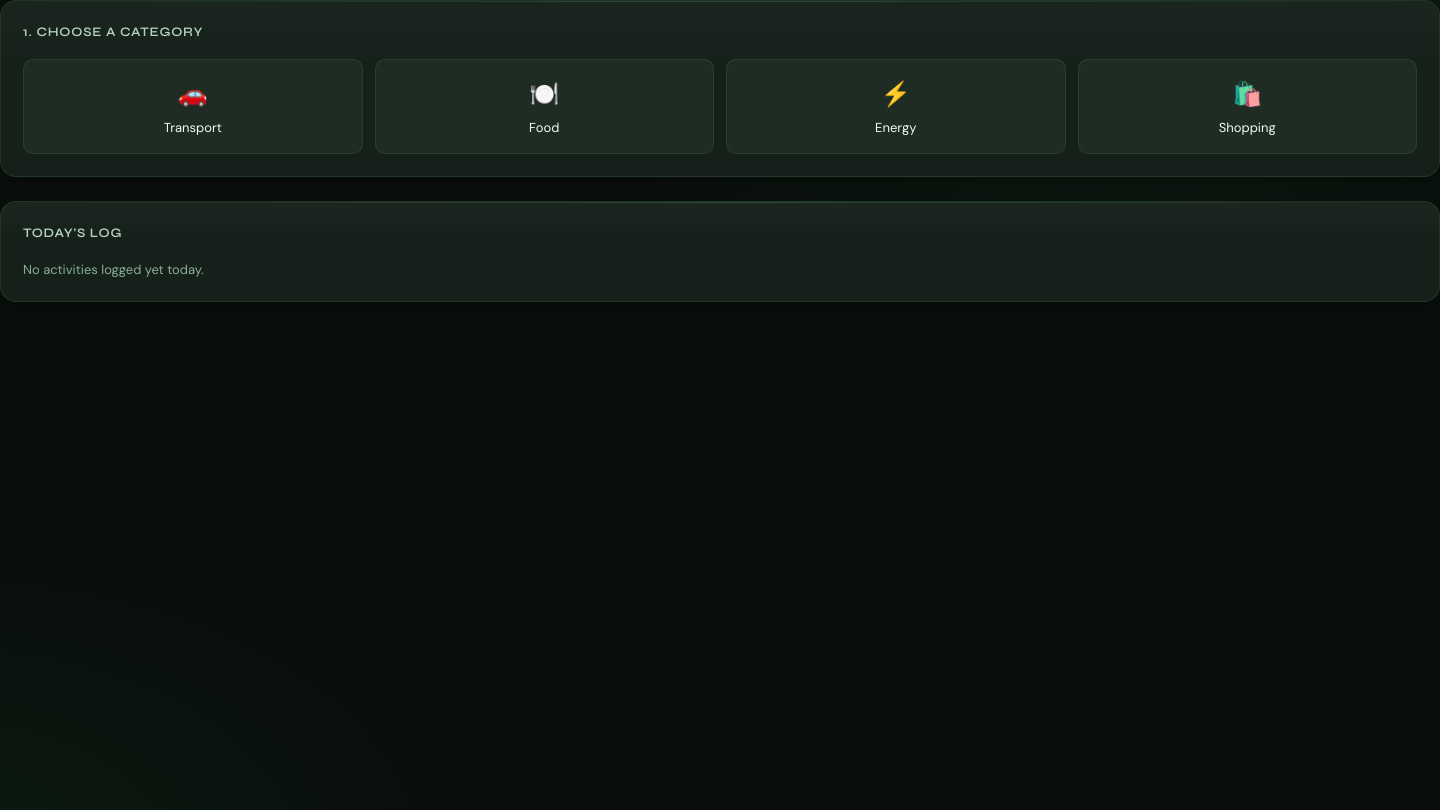
it: ActivityLogger › still logs the entry and shows an unavailable message when the tip request rejects
Click the radio button labelled "🚗 Transport". click: (193, 106)
box: [23,58,362,154]
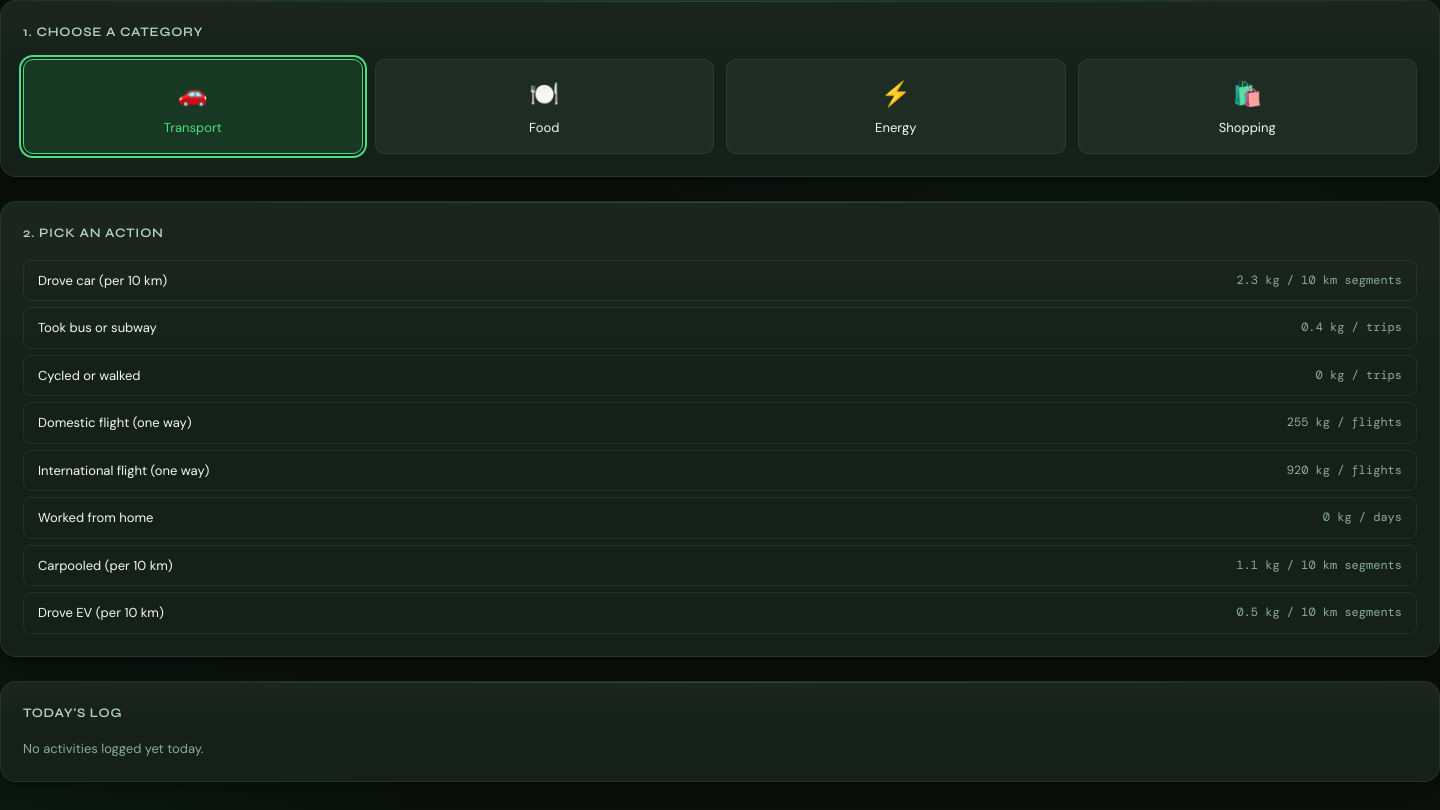
expect the list is shown: met, box [23,260,1417,634]
Click the option "Drove car (per 10 km) 2.3 kg / 10 km segments". click: (103, 280)
box: [23,260,1417,301]
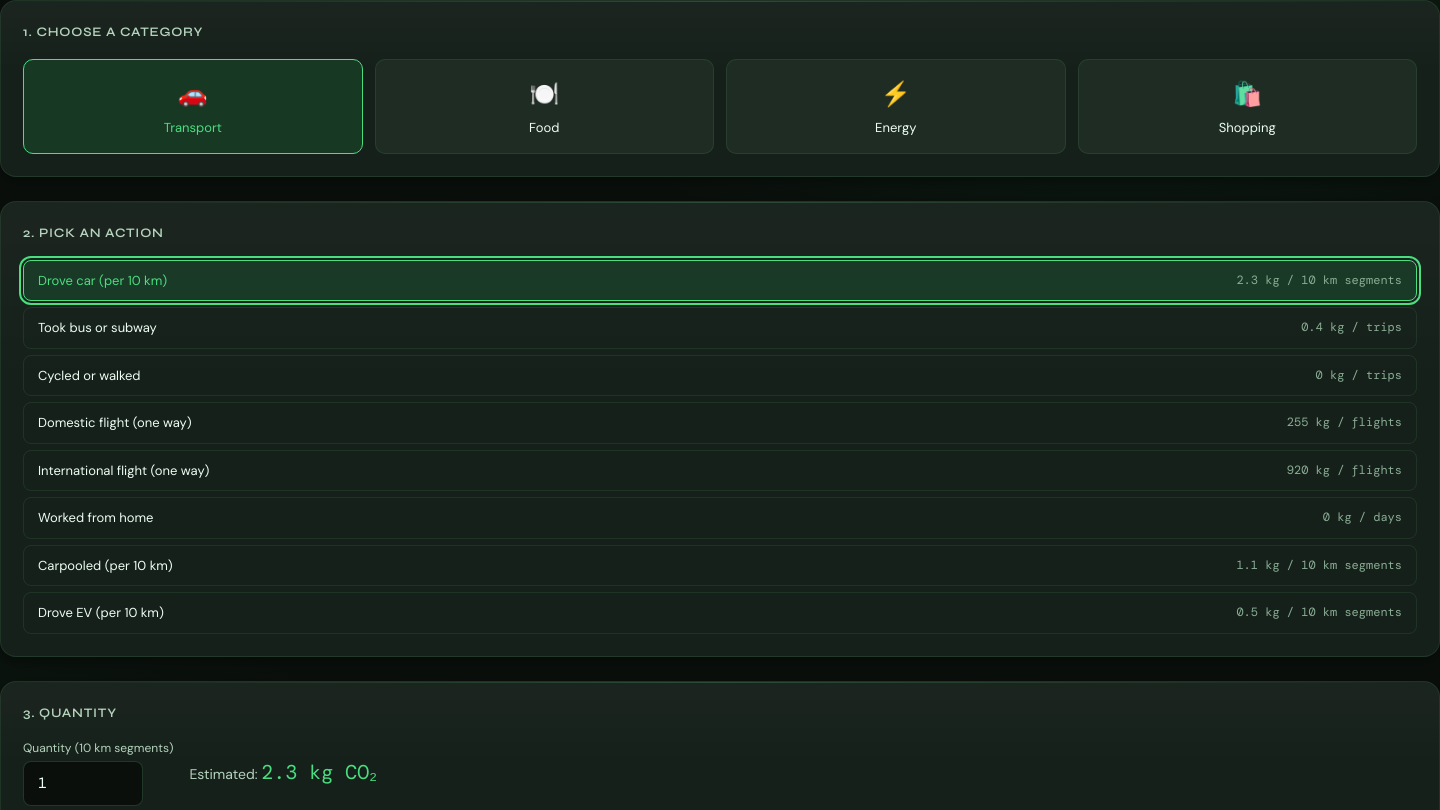
Replace the text in the number field named "quantity in" with "2". click: (83, 783)
box: [23,761,143,806]
(page scrolled)
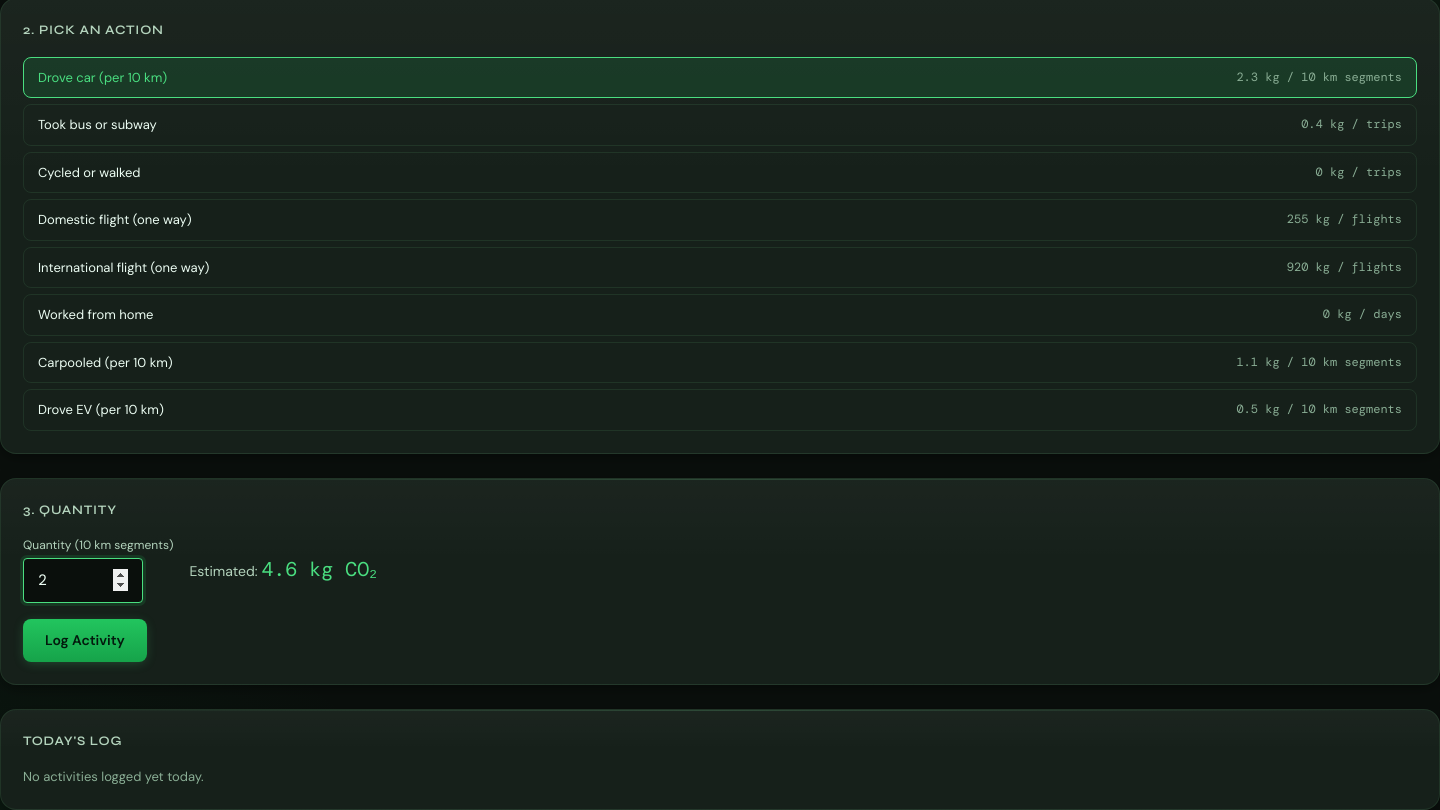
Click the button "Log Activity". click: (85, 640)
box: [23,618,147,662]
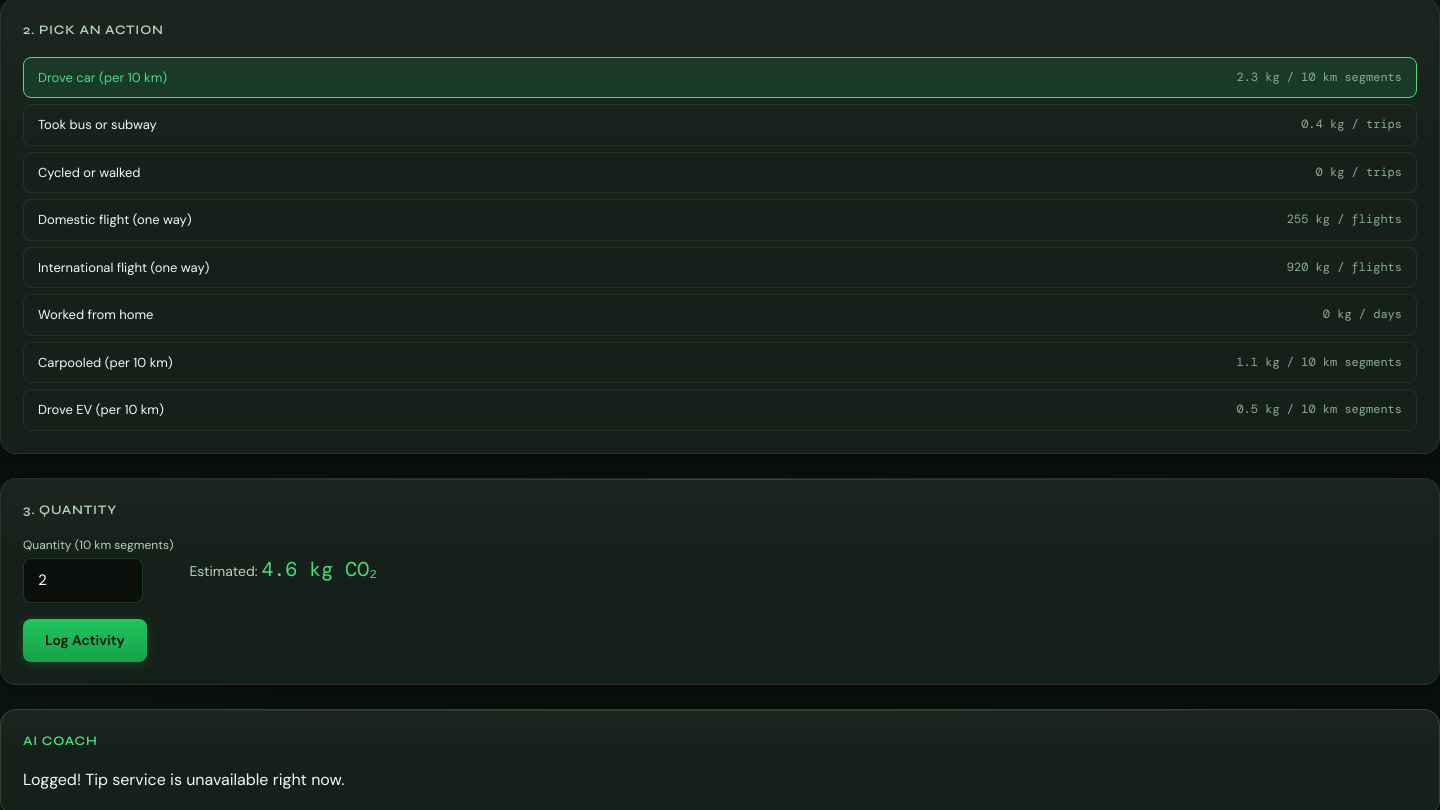
expect the text "Logged! Tip service is unavailable right now." is shown: met, box [23,769,344,790]
